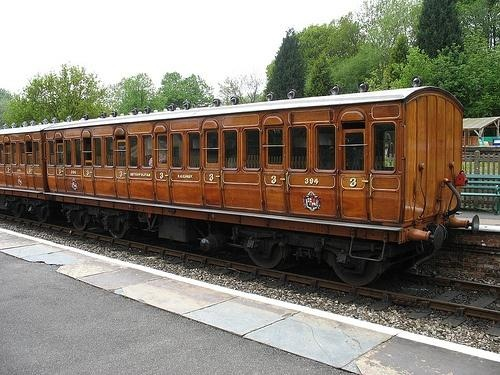train: (3, 76, 485, 295)
